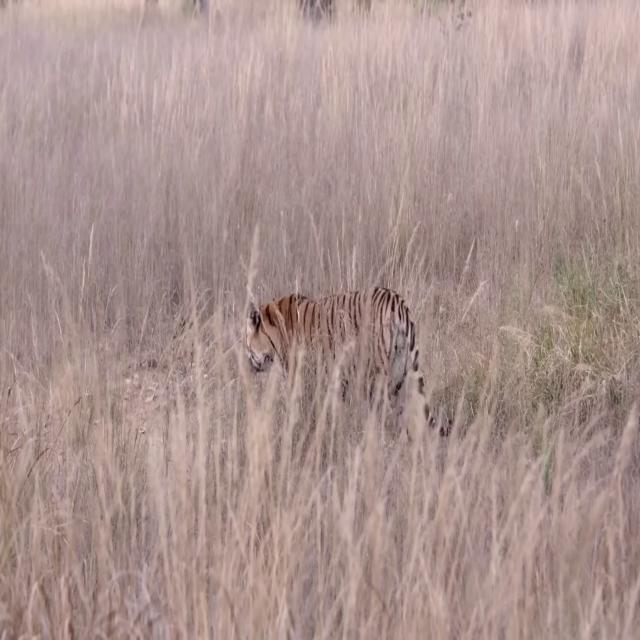tiger: (245, 287, 452, 438)
